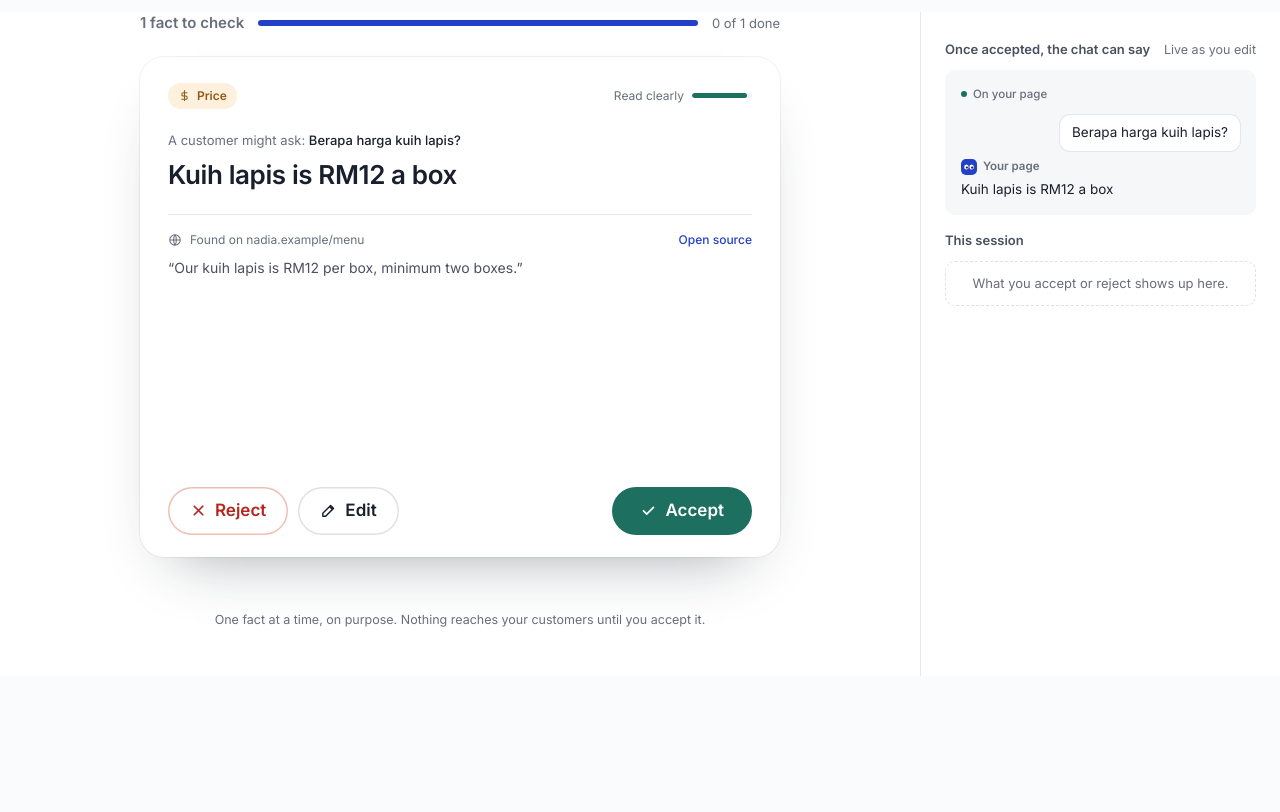
Scenario: ReviewQueue › says so when the last fact has been checked
The width and height of the screenshot is (1280, 812).
Click the button "Accept" at (682, 510), box [612, 486, 752, 534]
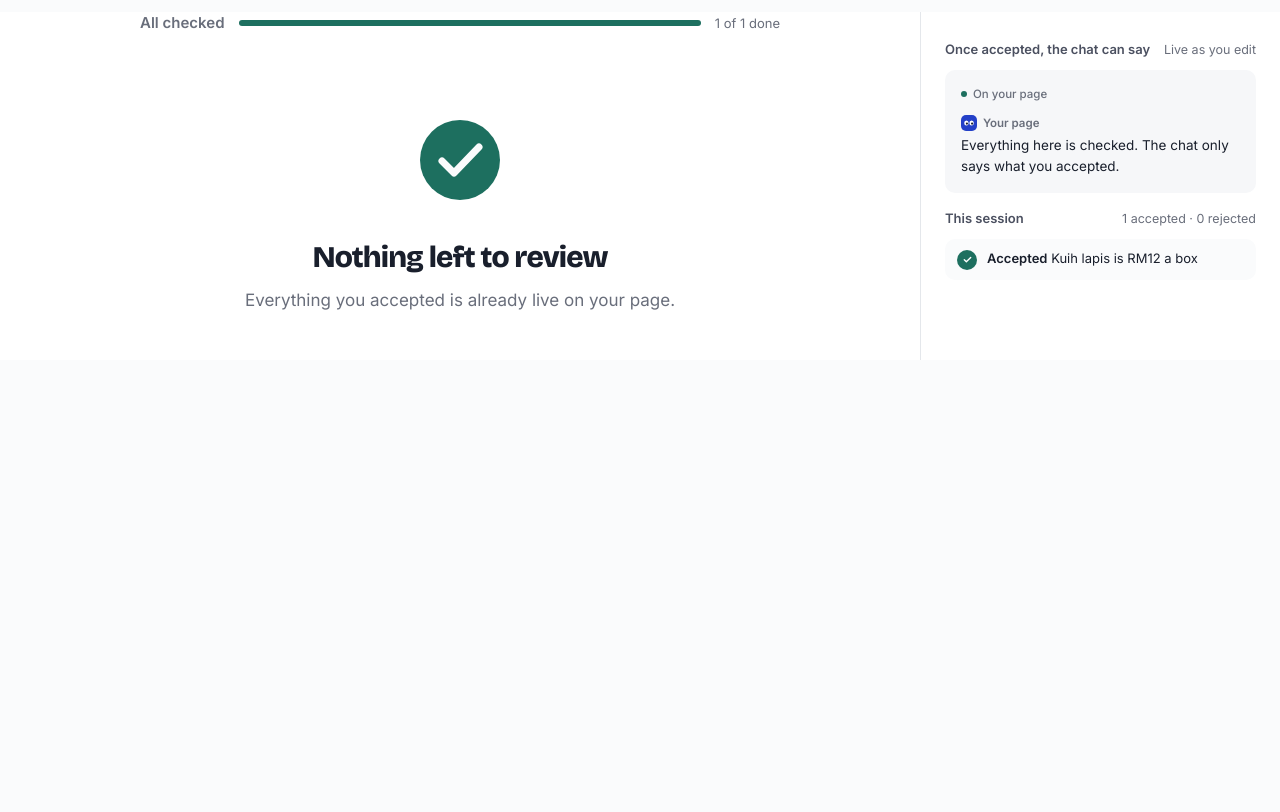
Now the heading "Nothing left to review" is shown, box [312, 234, 608, 280]
Now the text "Everything you accepted is already live on your page." is shown, box [245, 288, 675, 313]
Now the text "1 of 1 done" is shown, box [715, 14, 780, 33]
